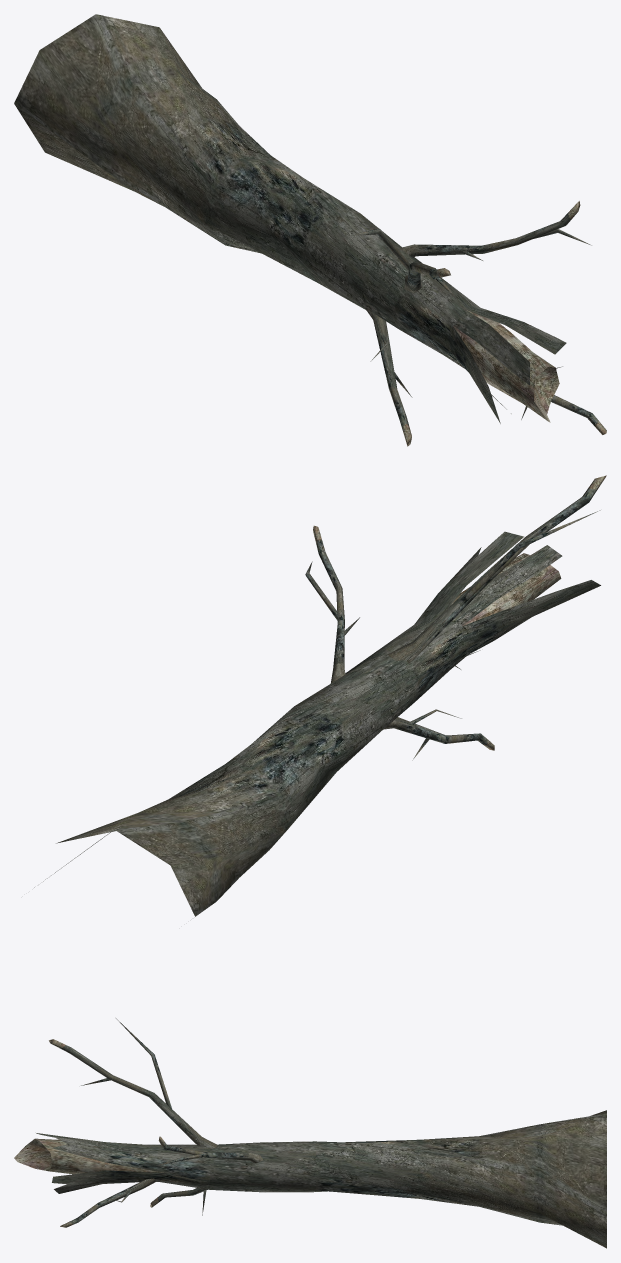
The model's file is tree_destoyed_trunk_a.glb.
3 renders of one model, top to bottom at view 1: azimuth 30°, elevation 25°; view 2: azimuth 150°, elevation 25°; view 3: azimuth 270°, elevation 25°, orthographic. The views are drawn at different scales.
Bounding box in the file's own units: 62.1 × 56.12 × 181.
1 material, 1 textured.
